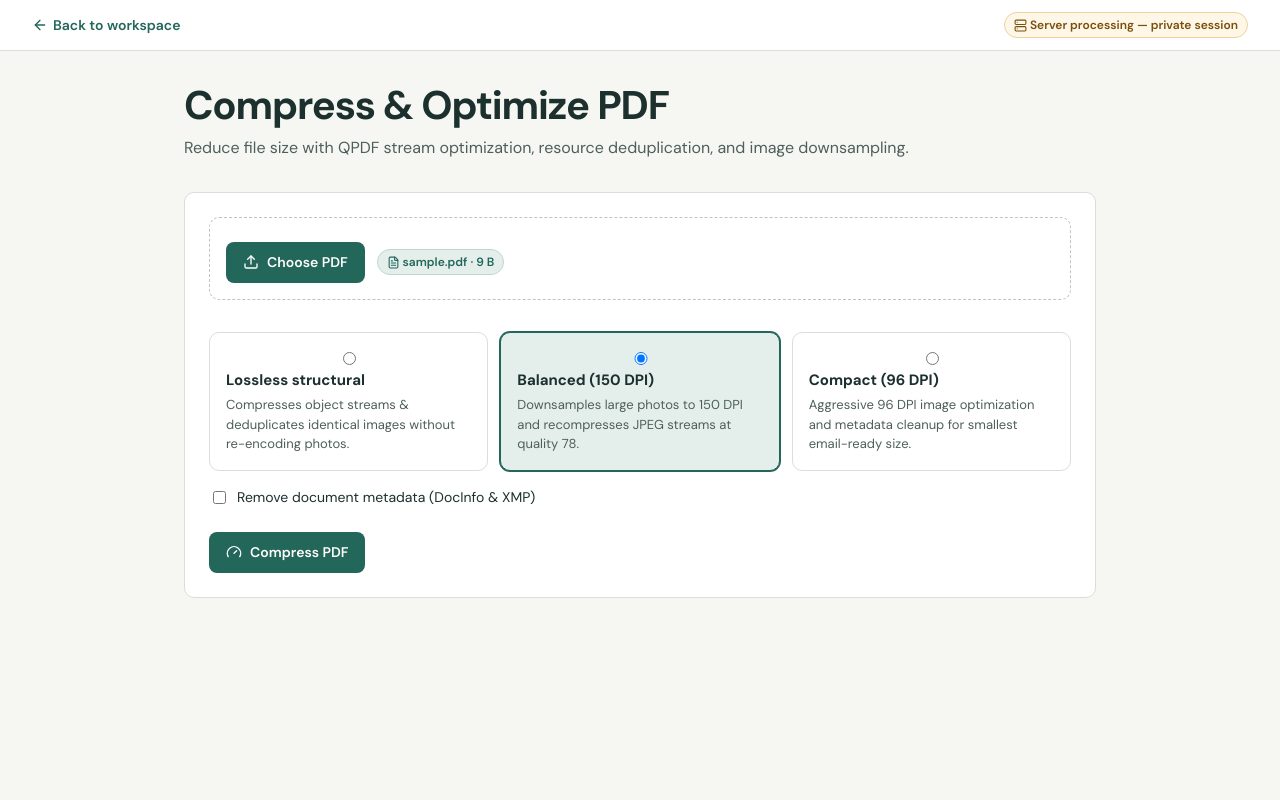
Docera Workspaces Integration › CompressWorkspace sends selected preset and displays size metrics
Earlier steps of the test are not shown.
Click the text "Compact (96 DPI)": (874, 380) top-left (809, 370), bottom-right (939, 390)
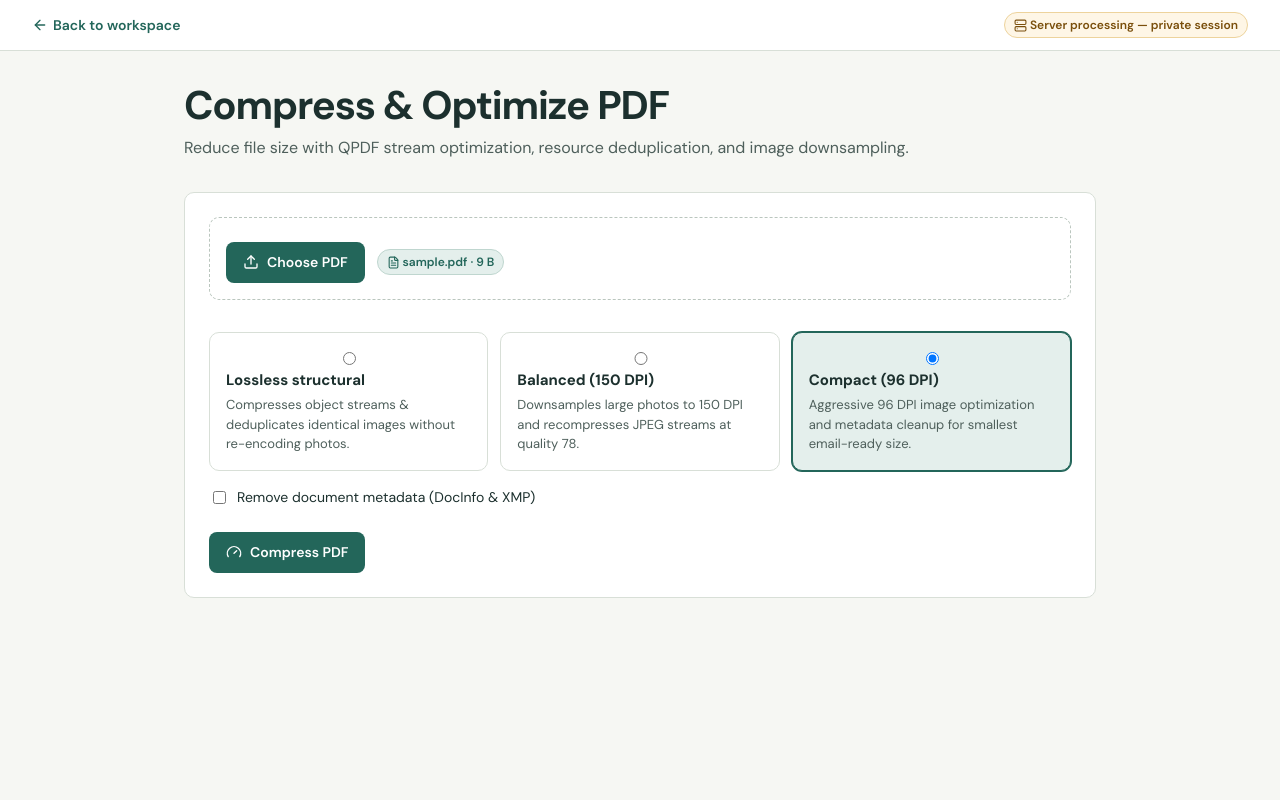
Click the button "Compress PDF": (287, 552) top-left (209, 532), bottom-right (366, 573)
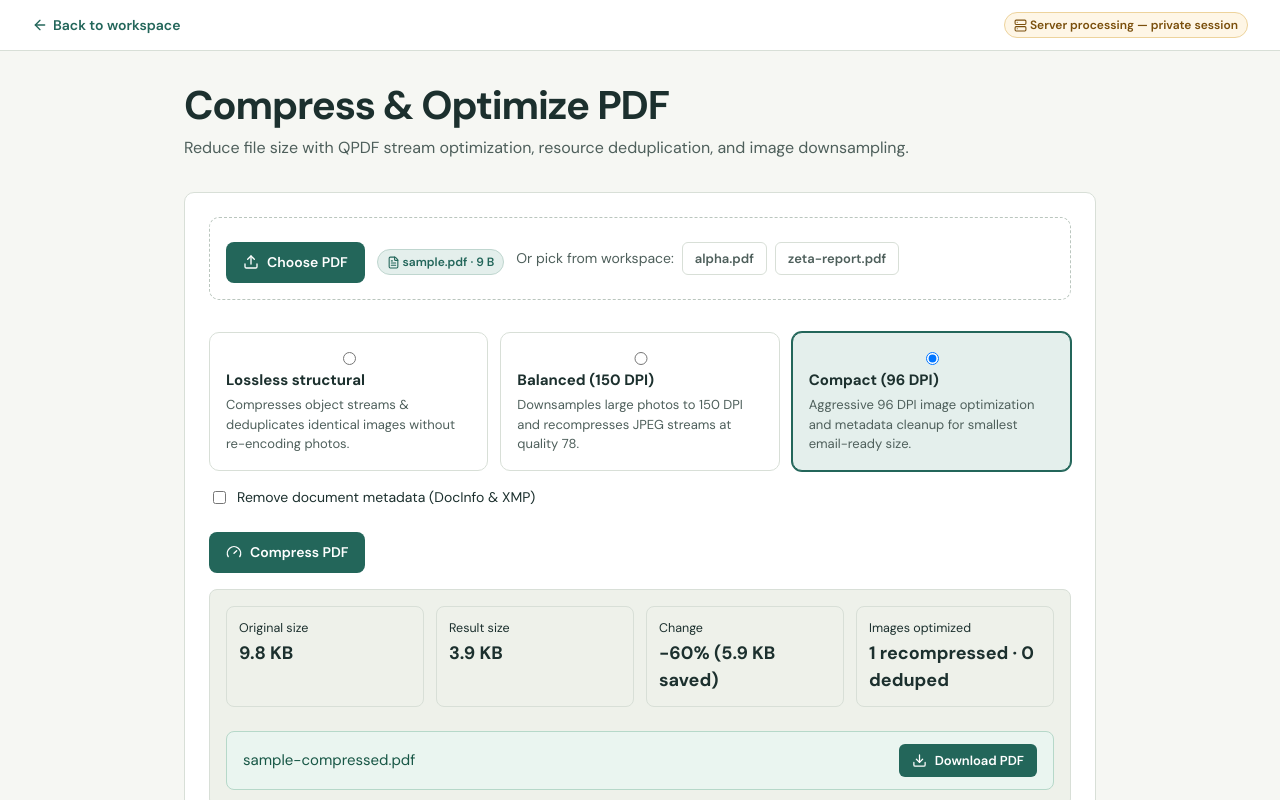
Expected: the text "-60% (5.9 KB saved)" is shown, top-left (659, 640), bottom-right (775, 692)
